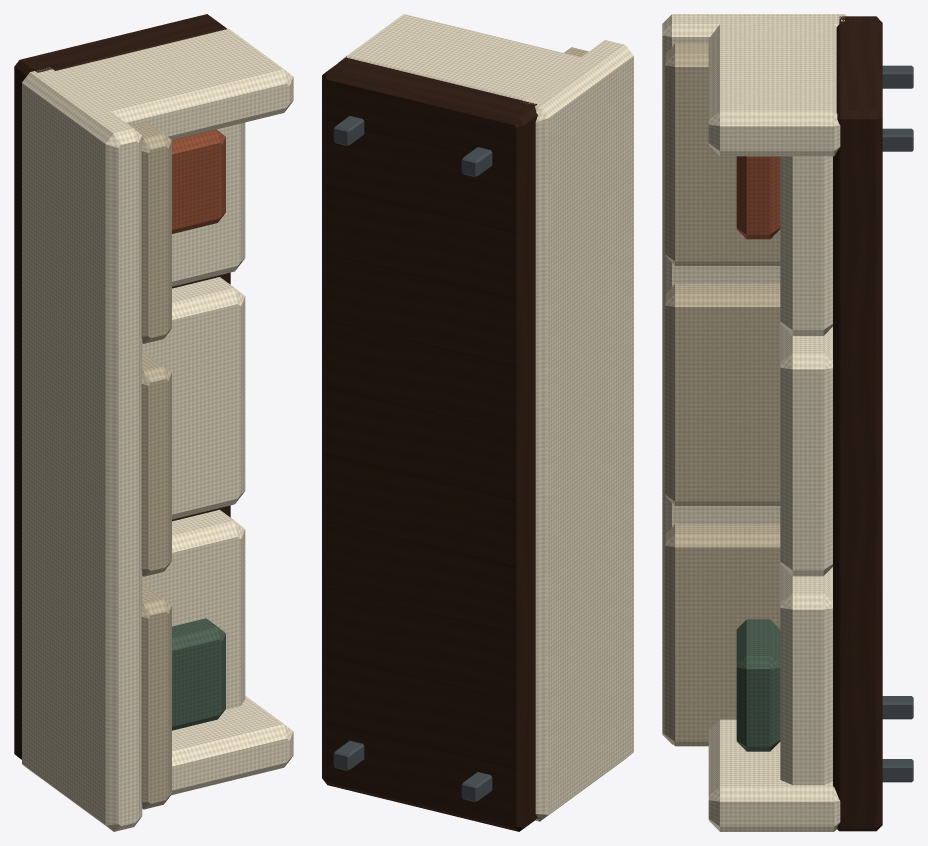
File: sofa_living.obj
3 renders of one model, left to right at view 1: azimuth 30°, elevation 25°; view 2: azimuth 150°, elevation 25°; view 3: azimuth 270°, elevation 25°, orthographic. The views are drawn at different scales.
Parts seen in each view (by area): view 1: sofa_living_linen, sofa_living_fabric, sofa_living_walnut, sofa_living_sage, sofa_living_clay; view 2: sofa_living_walnut, sofa_living_linen, sofa_living_metal; view 3: sofa_living_linen, sofa_living_fabric, sofa_living_walnut, sofa_living_sage, sofa_living_clay, sofa_living_metal.
Boxes of the visible parts, x1,y1,x2,y2 form: sofa_living_linen: [22, 28, 293, 831]; sofa_living_fabric: [130, 121, 171, 809]; sofa_living_walnut: [14, 14, 230, 759]; sofa_living_sage: [172, 618, 225, 730]; sofa_living_clay: [172, 129, 225, 233]; sofa_living_walnut: [322, 57, 537, 831]; sofa_living_linen: [338, 14, 633, 821]; sofa_living_metal: [333, 116, 492, 802]; sofa_living_linen: [662, 14, 846, 831]; sofa_living_fabric: [665, 43, 780, 746]; sofa_living_walnut: [833, 16, 882, 831]; sofa_living_sage: [736, 619, 780, 751]; sofa_living_clay: [736, 156, 780, 239]; sofa_living_metal: [882, 65, 913, 782].
Bounding box in the file's own units: 40.5 × 128 × 40.5.
6 materials, 6 textured.
